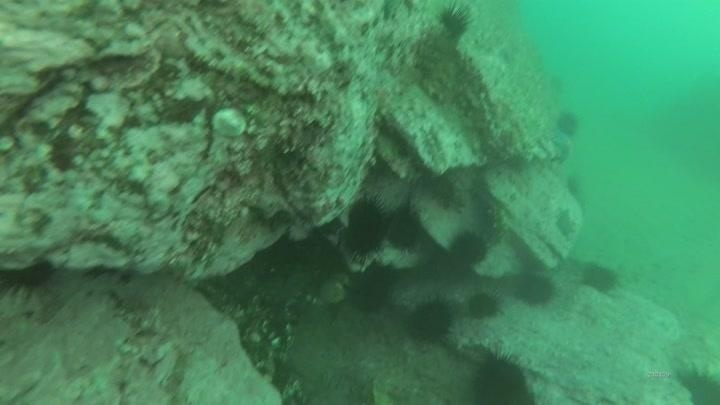echinus: (466, 348, 534, 405), (340, 195, 392, 258), (1, 255, 60, 302), (345, 263, 396, 315), (404, 296, 456, 345), (672, 361, 720, 405), (383, 205, 425, 253), (422, 242, 471, 283), (447, 229, 490, 269), (513, 270, 557, 308), (434, 2, 474, 42), (579, 261, 621, 295), (465, 289, 503, 322), (554, 109, 582, 139), (563, 173, 585, 200)
holothurian: (414, 36, 461, 107)
starfish: (553, 206, 577, 239)
